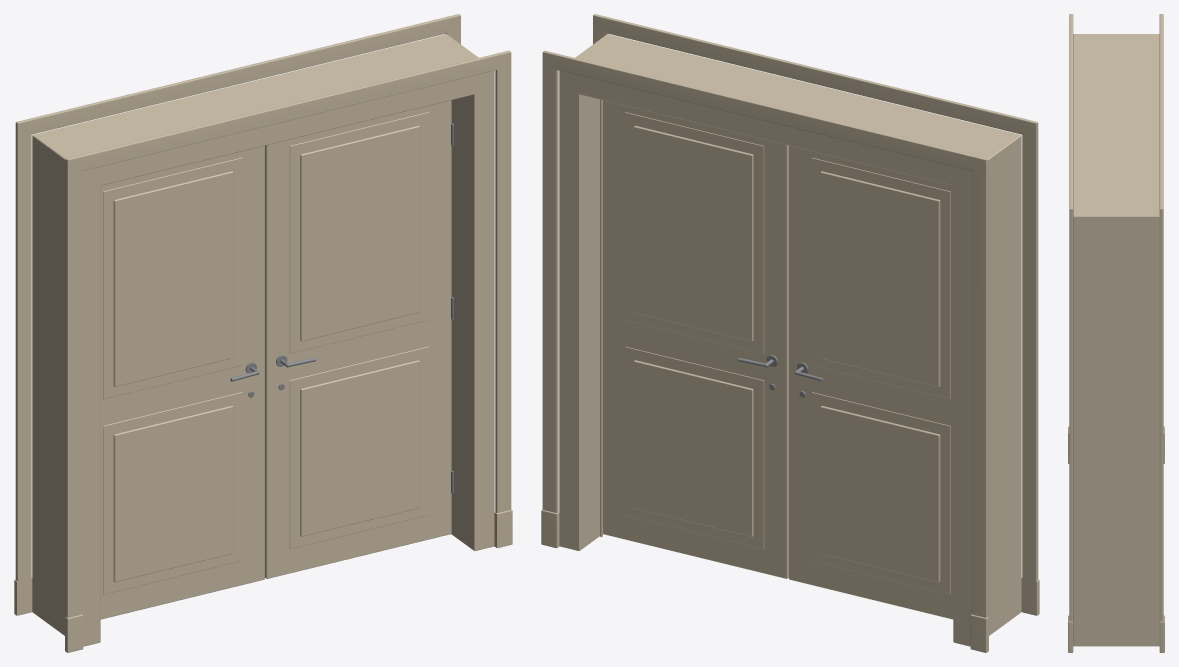
File: prop_door_double_ivory_t40.glb
The picture shows the model from 3 angles, left to right: view 1: azimuth 30°, elevation 25°; view 2: azimuth 150°, elevation 25°; view 3: azimuth 270°, elevation 25°; orthographic projection. The views are drawn at different scales.
Visible parts, largest first — view 1: Frame, LeafMesh2, LeafMesh; view 2: Frame, LeafMesh2, LeafMesh; view 3: Frame.
Part boxes in pixels (x1=…): Frame: x1=14, y1=14, x2=512, y2=652; LeafMesh2: x1=265, y1=100, x2=453, y2=578; LeafMesh: x1=100, y1=145, x2=264, y2=619; Frame: x1=541, y1=14, x2=1039, y2=652; LeafMesh2: x1=603, y1=100, x2=788, y2=578; LeafMesh: x1=789, y1=145, x2=953, y2=619; Frame: x1=1068, y1=14, x2=1164, y2=652.
Size of what is drawn, in the model's own units: 2.15 by 2.27 by 0.448.
